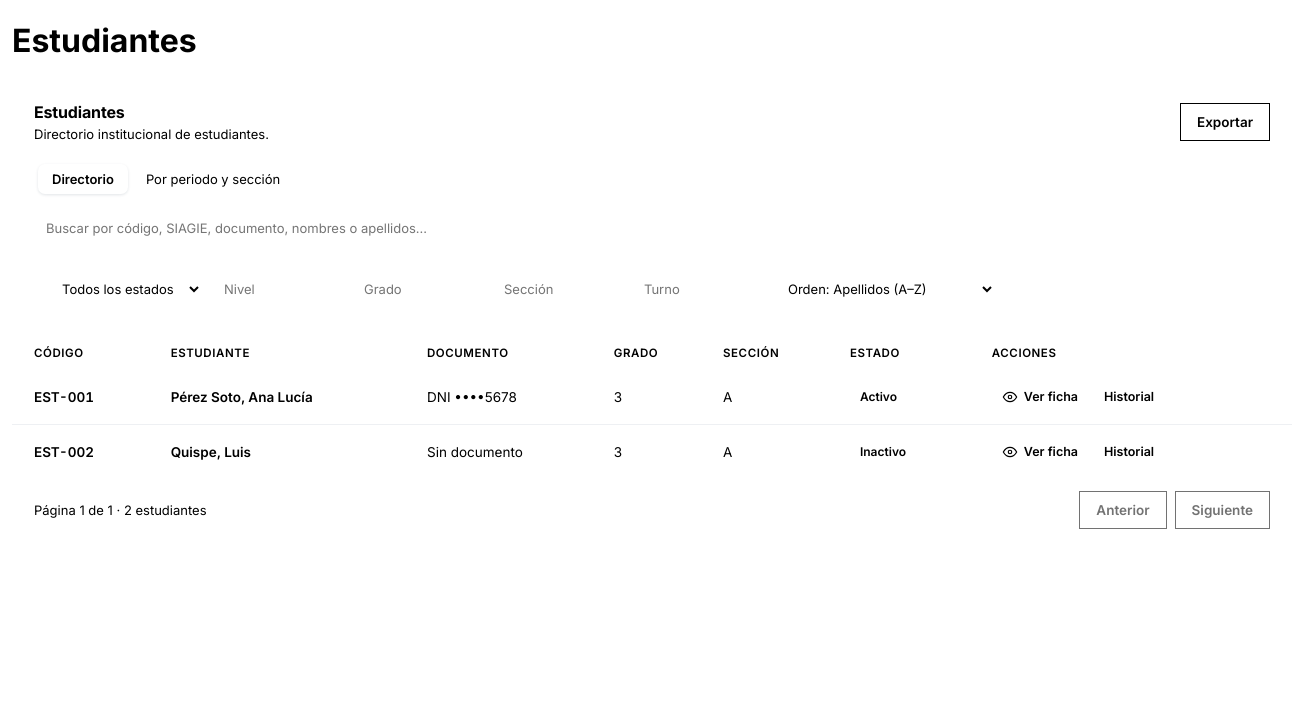
Test case: Directorio de estudiantes — listado › busca con q en el backend y no consulta con 1 carácter
The width and height of the screenshot is (1292, 720).
Expected: the text "EST-001" is shown, [12,370,157,425]
In the search field named "Buscar estudiantes": point(652, 228) [34,212,1270,244], type "p"
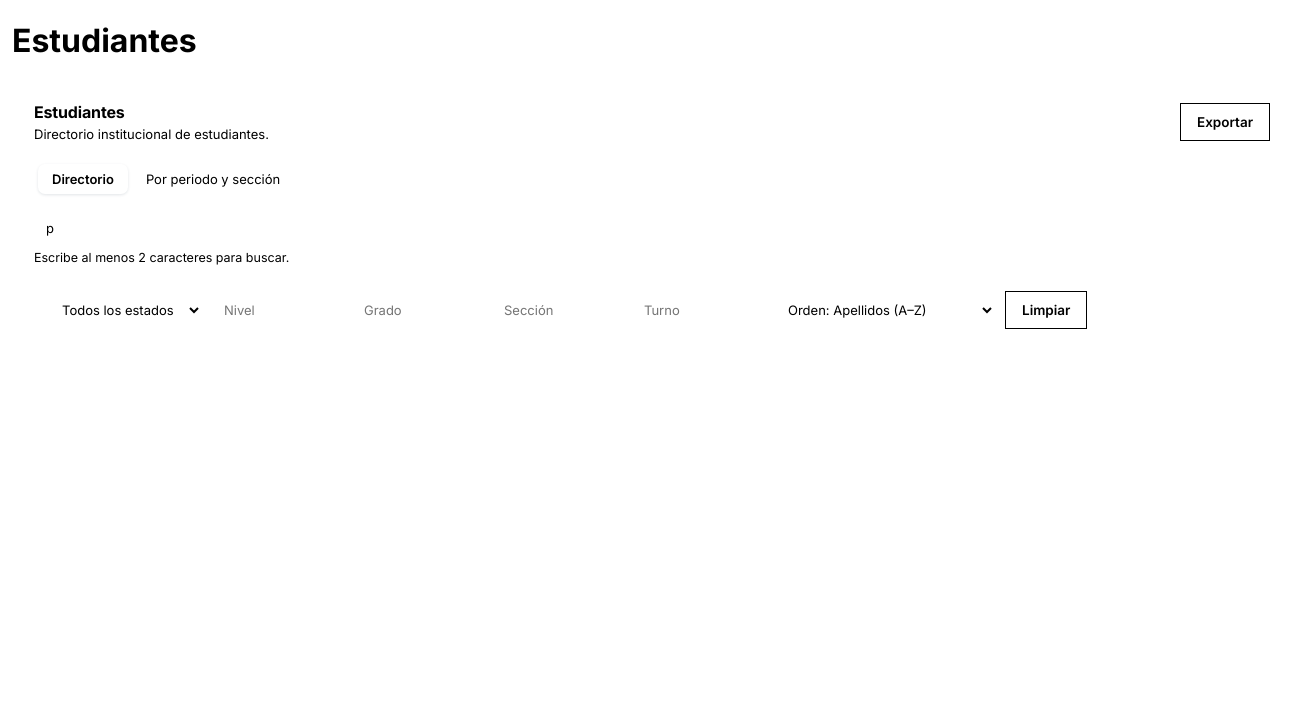
Now the text "Escribe al menos 2 caracteres para buscar." is shown, box [34,250,289,265]
Now the text "EST-001" is gone
Replace the text in the search field named "Buscar estudiantes" with "pérez ana": point(652, 228) [34,212,1270,244]
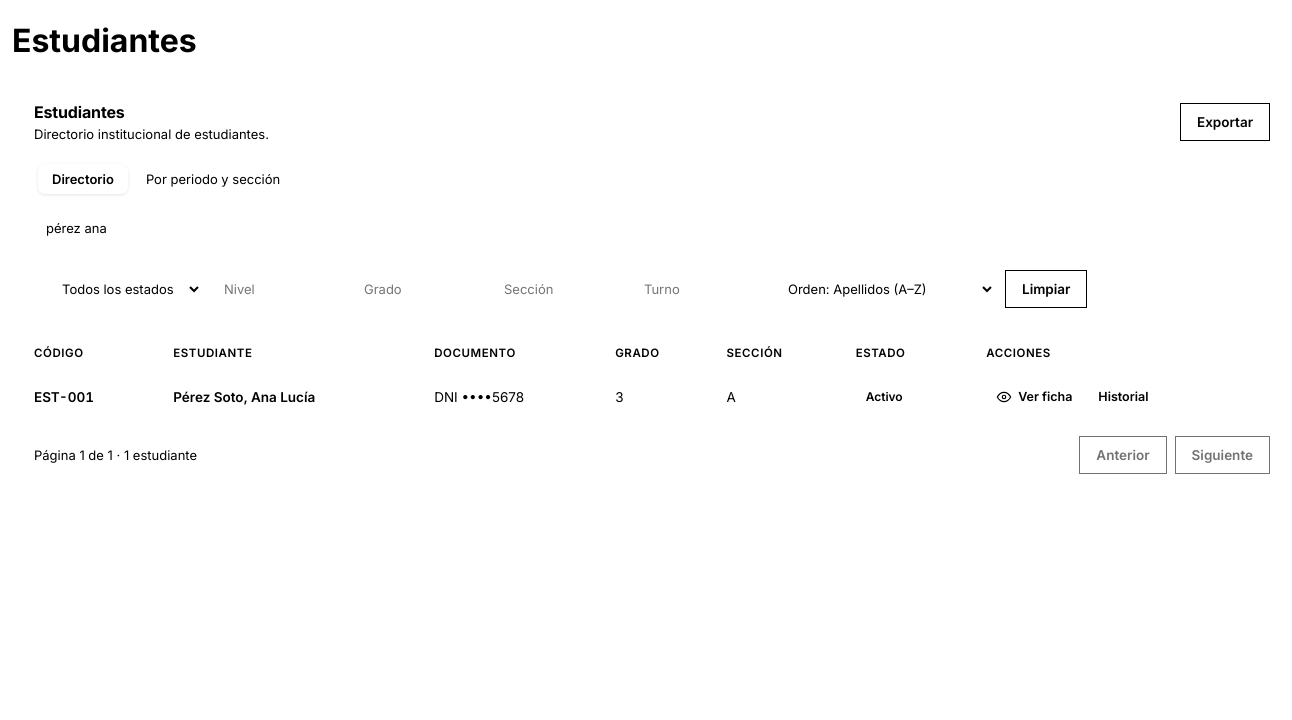
Now the text "EST-001" is shown, box [12,370,159,424]
